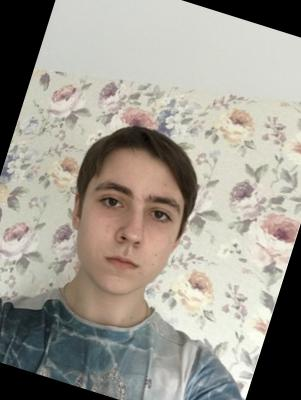without_mask: (58, 170, 190, 310)
